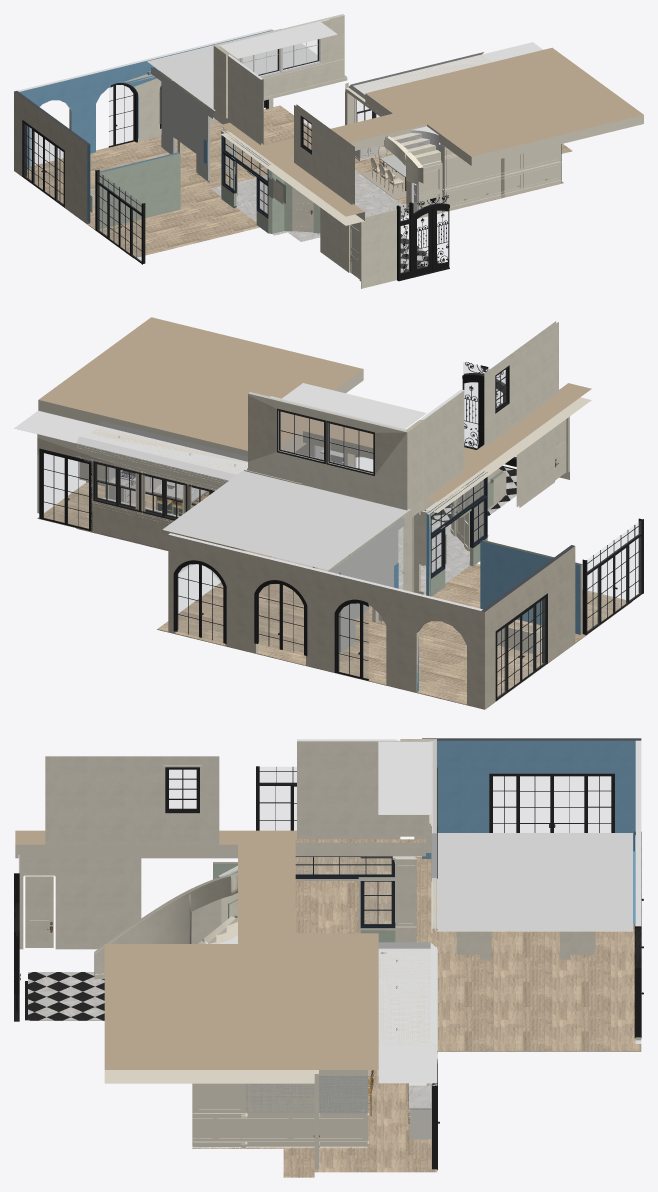
The model's file is kitchen-3874468be418.glb.
3 views of the same model, one above another, from view 1: azimuth 30°, elevation 25°; view 2: azimuth 150°, elevation 25°; view 3: azimuth 270°, elevation 25° (orthographic). The views are drawn at different scales.
Visible parts, largest first — view 1: kitchen-look-2575515a05775d9e, kitchen-look-3b0077416469e01b, kitchen-look-969b861f9850351e, kitchen-look-b19b106fc304963c, kitchen-19647d6da46c2b80, kitchen-look-039192b0560cfac3, kitchen-look-4a969f5cc1ae3dfe, kitchen-look-746250f96522f643, kitchen-look-55ff1dfd7b659ec1, kitchen-look-08d72923bcfd3529, kitchen-look-245f595ae2832e16, kitchen-look-d5a4a1b5d3594c04 (+31 smaller); view 2: kitchen-look-2575515a05775d9e, kitchen-look-969b861f9850351e, kitchen-look-3b0077416469e01b, kitchen-look-4a969f5cc1ae3dfe, kitchen-look-245f595ae2832e16, kitchen-look-039192b0560cfac3, kitchen-look-746250f96522f643, kitchen-bfb9fa537cd11d1d, kitchen-look-08d72923bcfd3529, kitchen-look-b57b1dfcc6ff1bca, kitchen-look-7f59123d155b94ce, kitchen-look-9fbf623a647a21dd (+28 smaller); view 3: kitchen-look-2575515a05775d9e, kitchen-look-3b0077416469e01b, kitchen-look-4a969f5cc1ae3dfe, kitchen-look-746250f96522f643, kitchen-look-039192b0560cfac3, kitchen-look-7f59123d155b94ce, kitchen-look-85f0fd939e0fcc78, kitchen-look-9fbf623a647a21dd, kitchen-9a0e9ee9b2a451d7, kitchen-look-9d91b47435c6fb33, kitchen-5b6bbac285e58726, kitchen-49bdd6945a2d0056 (+26 smaller).
Part boxes in pixels (x1,y1,x2,y2): kitchen-look-2575515a05775d9e: [221, 47, 643, 225]; kitchen-look-3b0077416469e01b: [14, 105, 572, 257]; kitchen-look-969b861f9850351e: [17, 28, 273, 168]; kitchen-look-b19b106fc304963c: [99, 152, 180, 229]; kitchen-19647d6da46c2b80: [444, 144, 560, 206]; kitchen-look-039192b0560cfac3: [14, 91, 90, 223]; kitchen-look-4a969f5cc1ae3dfe: [147, 28, 346, 110]; kitchen-look-746250f96522f643: [294, 104, 354, 205]; kitchen-look-55ff1dfd7b659ec1: [151, 67, 214, 180]; kitchen-look-08d72923bcfd3529: [95, 169, 145, 264]; kitchen-look-245f595ae2832e16: [213, 14, 344, 108]; kitchen-look-d5a4a1b5d3594c04: [361, 209, 396, 288]; kitchen-look-2575515a05775d9e: [38, 317, 591, 512]; kitchen-look-969b861f9850351e: [168, 533, 482, 707]; kitchen-look-3b0077416469e01b: [37, 479, 631, 709]; kitchen-look-4a969f5cc1ae3dfe: [162, 470, 410, 570]; kitchen-look-245f595ae2832e16: [248, 392, 407, 510]; kitchen-look-039192b0560cfac3: [481, 545, 575, 708]; kitchen-look-746250f96522f643: [484, 321, 558, 445]; kitchen-bfb9fa537cd11d1d: [76, 444, 246, 551]; kitchen-look-08d72923bcfd3529: [582, 518, 643, 635]; kitchen-look-b57b1dfcc6ff1bca: [173, 560, 226, 643]; kitchen-look-7f59123d155b94ce: [418, 389, 464, 511]; kitchen-look-9fbf623a647a21dd: [495, 593, 547, 701]; kitchen-look-2575515a05775d9e: [15, 830, 378, 1083]; kitchen-look-3b0077416469e01b: [283, 856, 641, 1177]; kitchen-look-4a969f5cc1ae3dfe: [437, 833, 632, 931]; kitchen-look-746250f96522f643: [45, 756, 219, 844]; kitchen-look-039192b0560cfac3: [422, 738, 641, 858]; kitchen-look-7f59123d155b94ce: [297, 739, 400, 839]; kitchen-look-85f0fd939e0fcc78: [19, 858, 141, 949]; kitchen-look-9fbf623a647a21dd: [489, 773, 614, 832]; kitchen-9a0e9ee9b2a451d7: [378, 948, 436, 1046]; kitchen-look-9d91b47435c6fb33: [378, 741, 431, 814]; kitchen-5b6bbac285e58726: [246, 1083, 314, 1148]; kitchen-49bdd6945a2d0056: [378, 942, 437, 1046].
Size of the model in its own units: 20.89 by 6.36 by 16.85.
72 materials, 14 textured.
